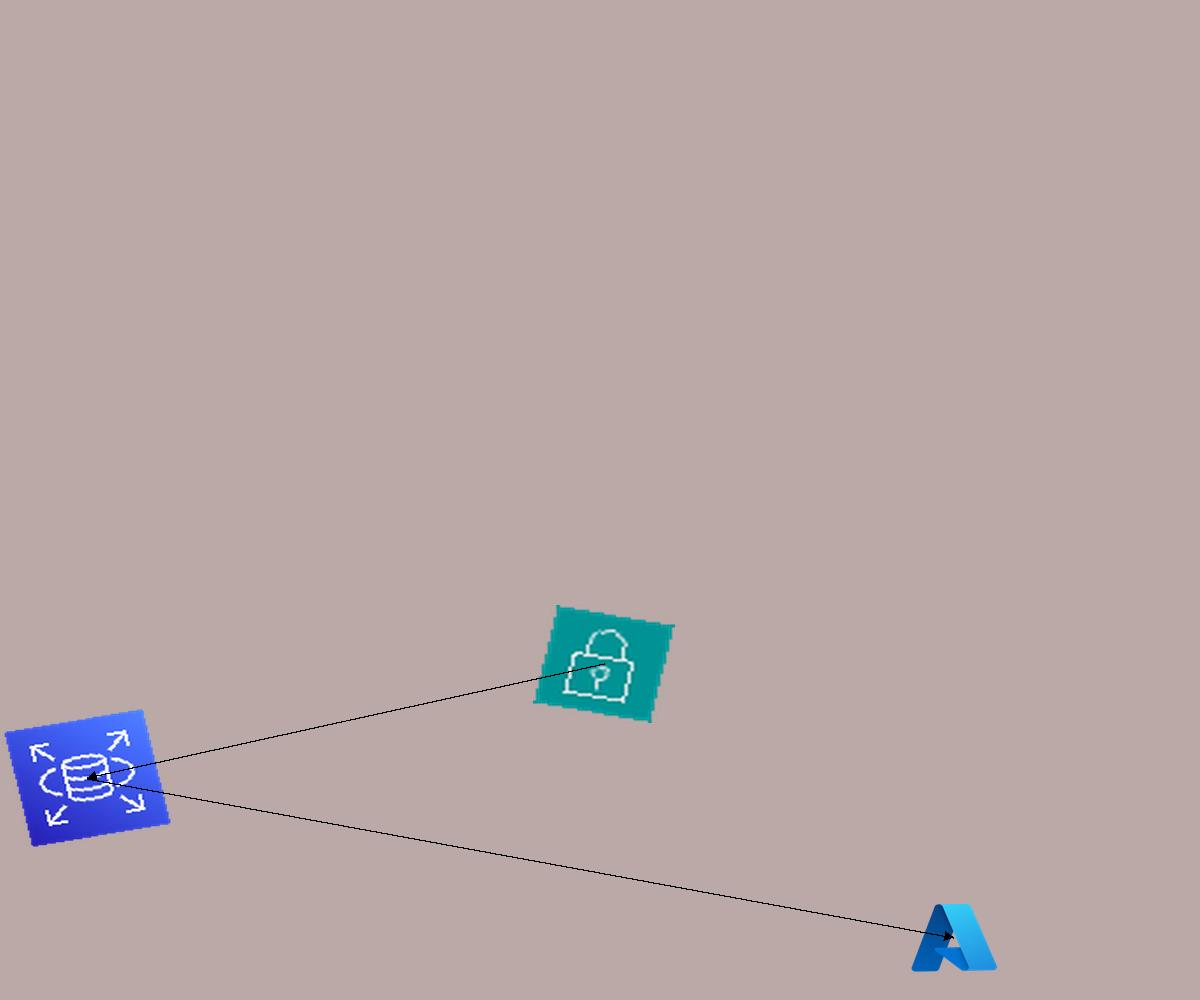AWS-Private-subnet: (533, 605, 675, 723)
AWS-RDS: (3, 708, 172, 848)
Azure_services: (906, 898, 1001, 977)
